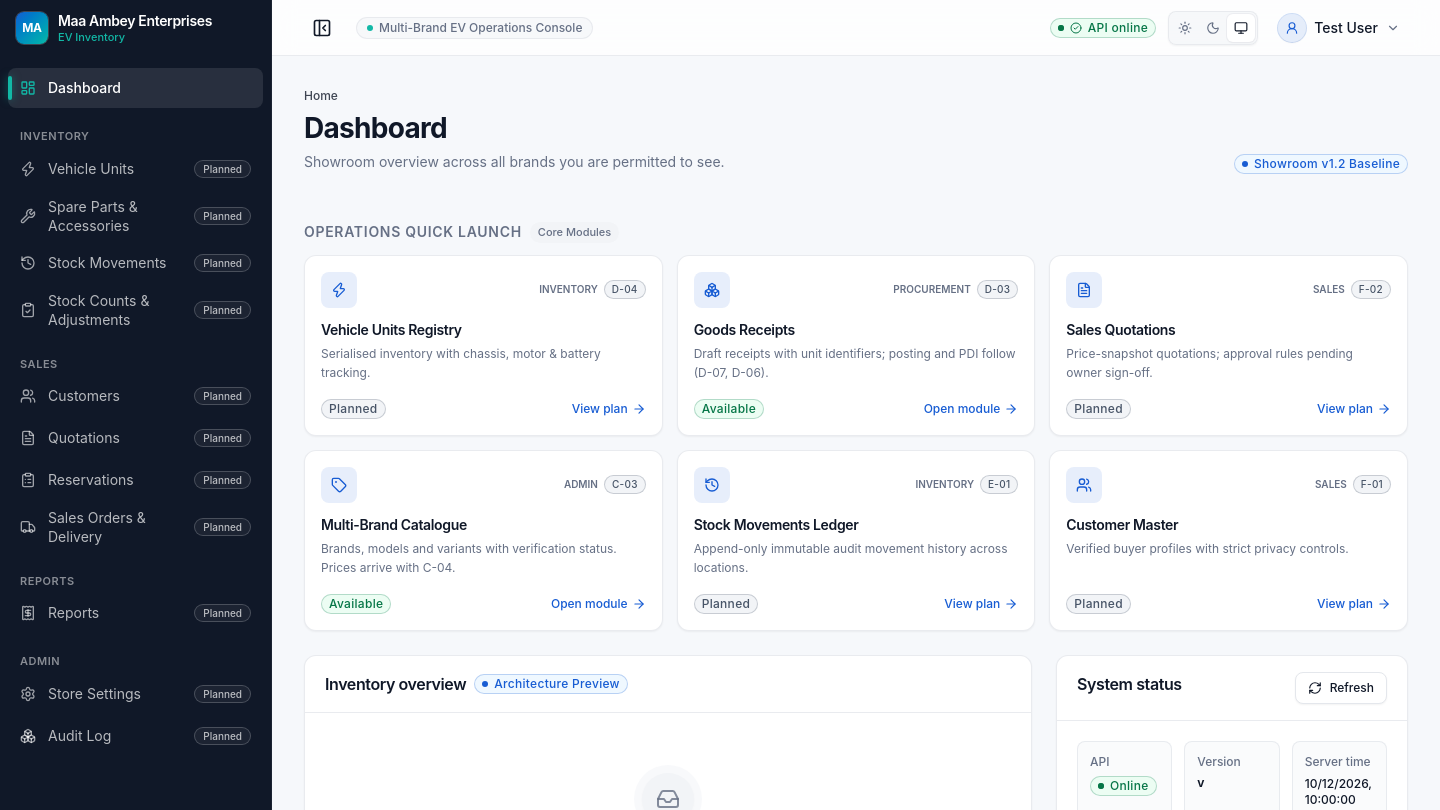
Test case: retrying after a failed check › shows "Reconnecting…" instead of the last good result while retries are pending
The image size is (1440, 810).
Check: the text "online" is shown, box [1112,20,1148,34]
Click the button "Refresh" at (1341,688), box [1295,672,1387,704]
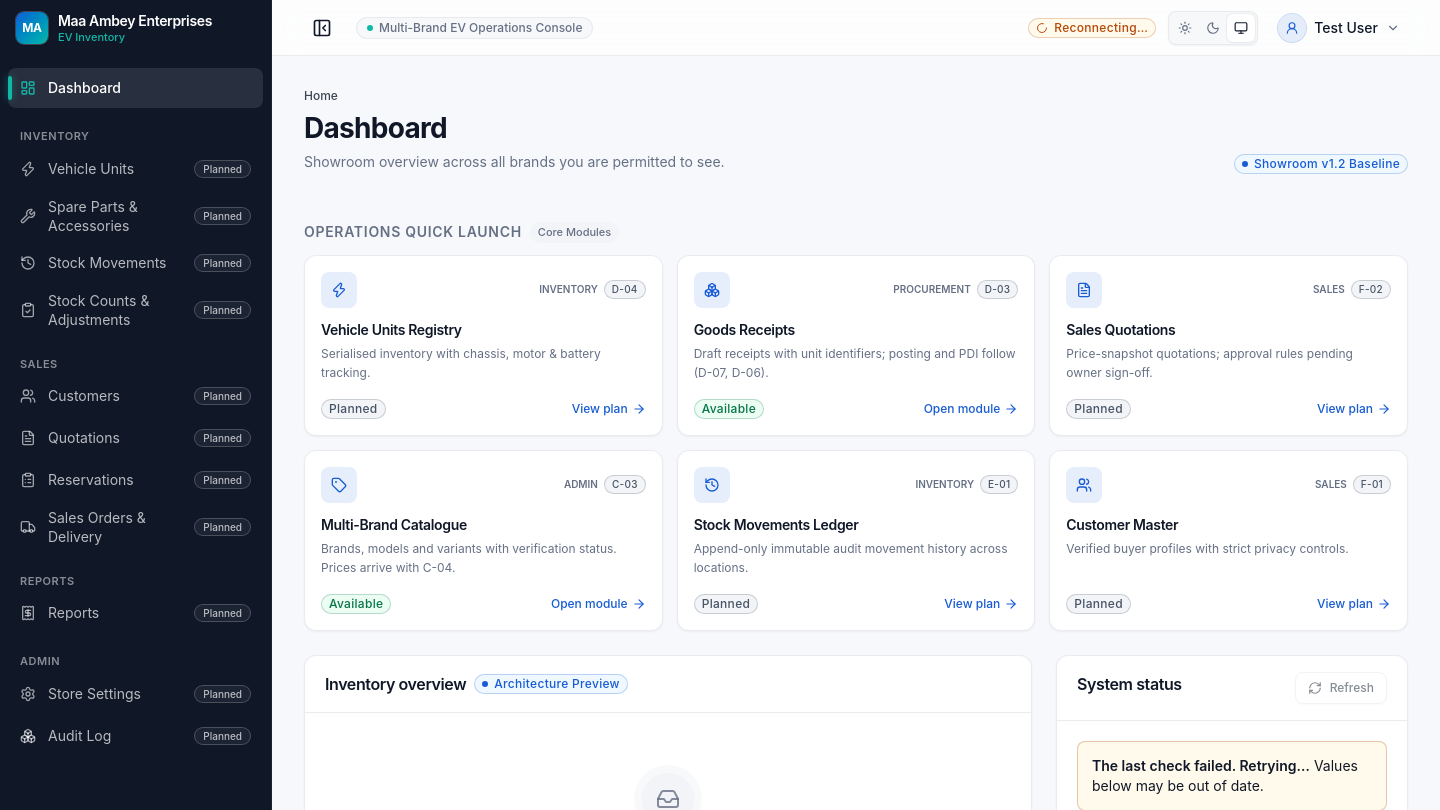
Check: the text "Reconnecting…" is shown, box [1054,20,1148,36]
Check: the message reads "The last check failed. Retrying… Values below may be out of date.", box [1077,741,1387,809]
